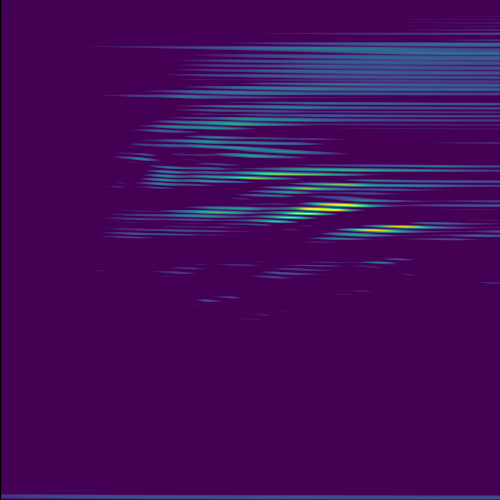semblance: (255, 199, 372, 227), (218, 161, 363, 182), (328, 222, 434, 241)
